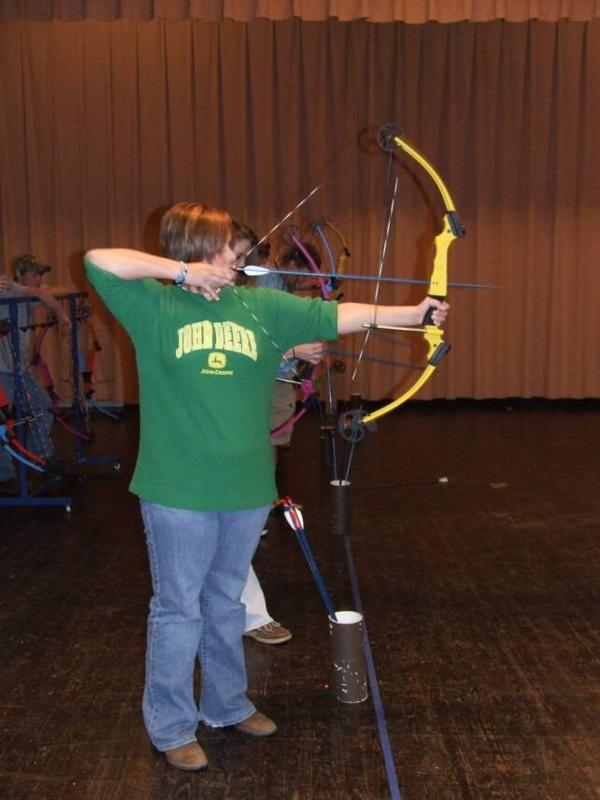person: (88, 195, 450, 766)
